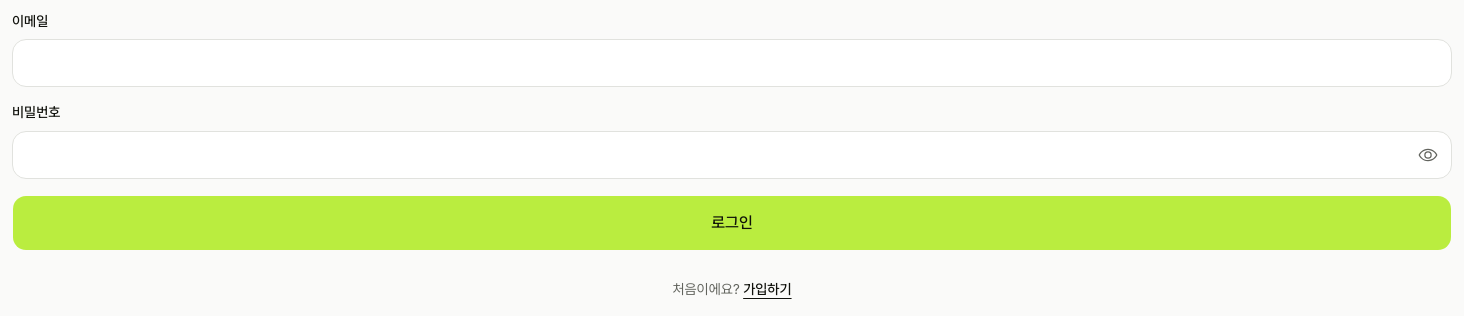
AuthForm › 비밀번호 보기 버튼을 누르면 글자로 보이고 다시 누르면 가린다
Click the button named "비밀번호 보기": [1428, 154] box [1404, 130, 1452, 178]
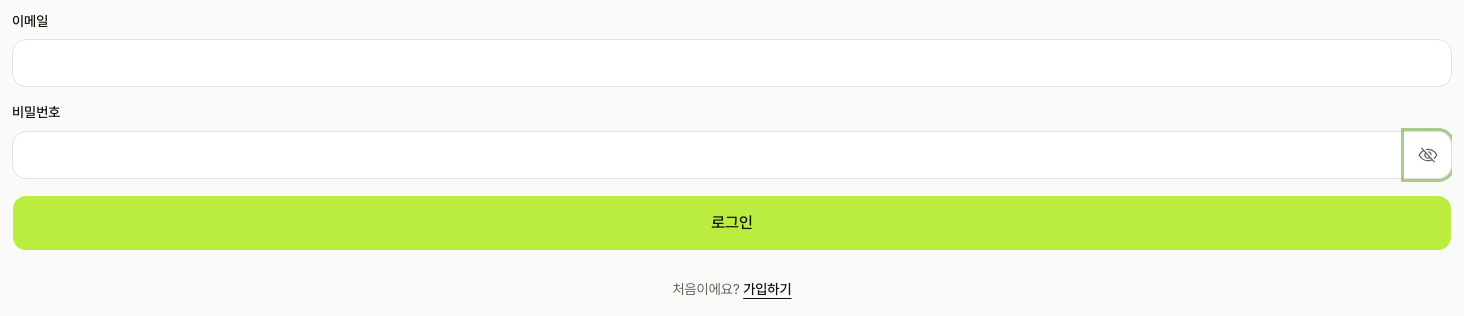
Check: the button named "비밀번호 숨기기" is pressed
Click the button named "비밀번호 숨기기": [1428, 154] box [1404, 130, 1452, 178]
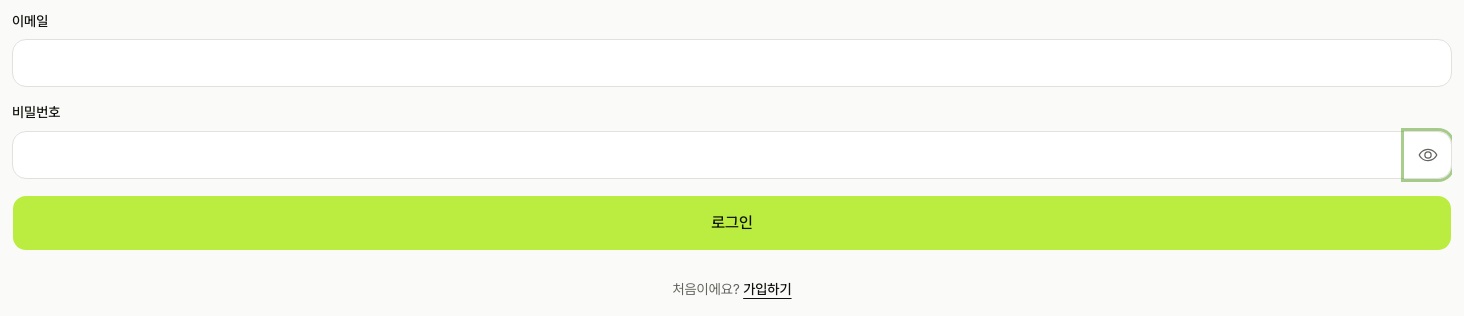
Check: the button named "비밀번호 보기" is not pressed, box [1404, 130, 1452, 178]
